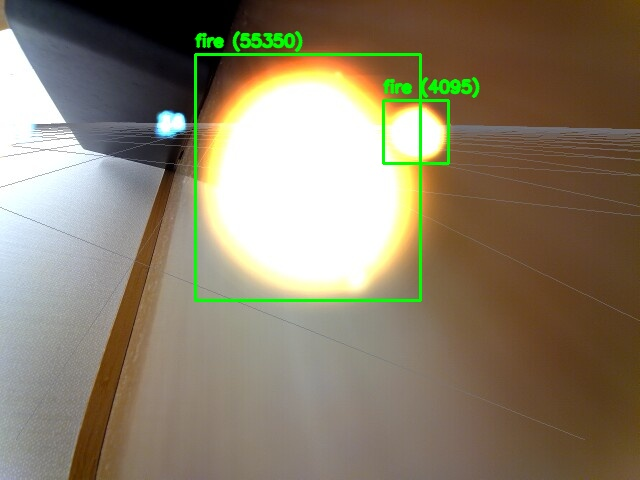fire: (195, 54, 420, 300), (383, 100, 448, 163)
